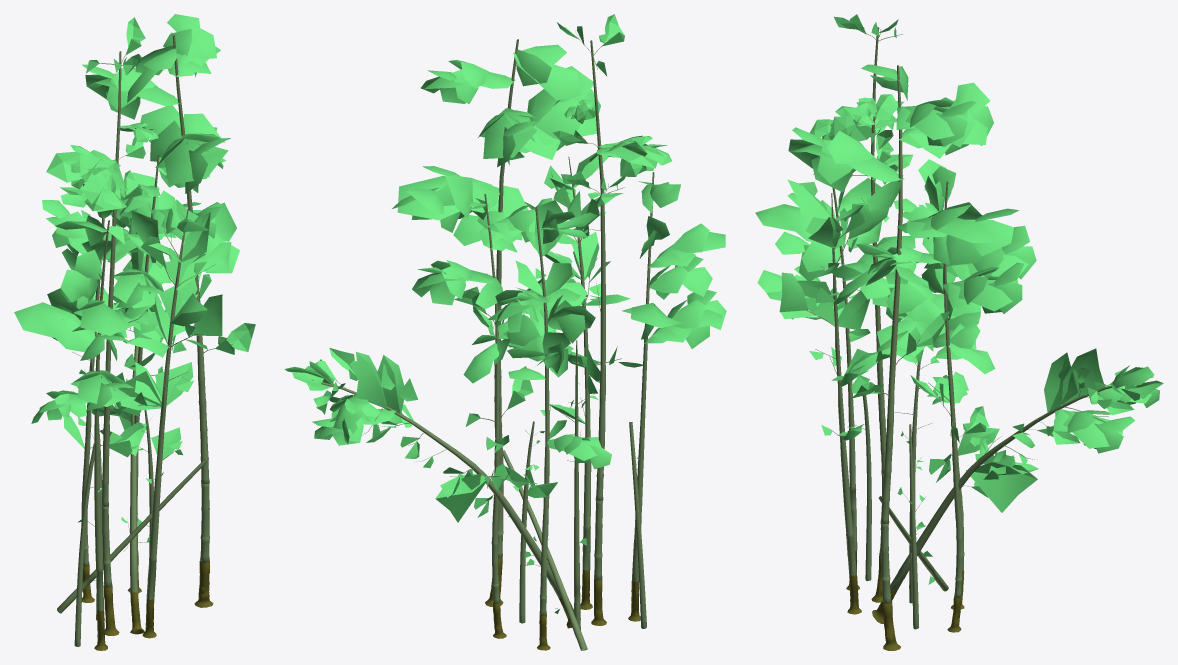
File: Bamboo_Cluster1_LOD0.fbx
3 renders of one model, left to right at view 1: azimuth 30°, elevation 25°; view 2: azimuth 150°, elevation 25°; view 3: azimuth 270°, elevation 25°, orthographic.
Parts seen in each view (by area): view 1: Bamboo_Cluster1_LOD0; view 2: Bamboo_Cluster1_LOD0; view 3: Bamboo_Cluster1_LOD0.
Boxes of the visible parts, bbox=[...] form: Bamboo_Cluster1_LOD0: bbox=[14, 14, 255, 650]; Bamboo_Cluster1_LOD0: bbox=[284, 14, 726, 650]; Bamboo_Cluster1_LOD0: bbox=[755, 14, 1163, 650].
Size of the model in its own units: 1437 by 3075 by 1877.
